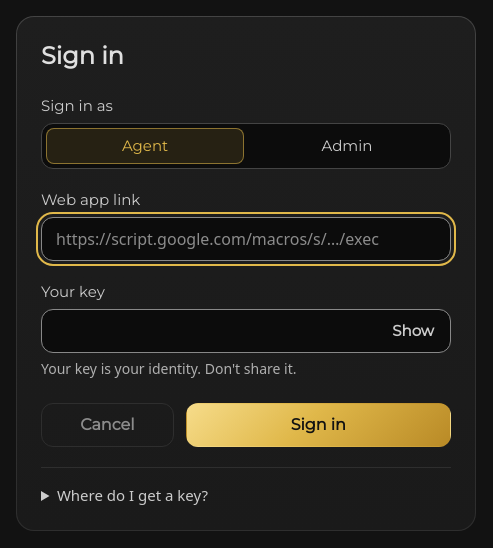
Test case: SignInScreen › hides the key until asked
Click the button with aria-label "Show key" at (413, 331), box left=381, top=315, right=445, bottom=347
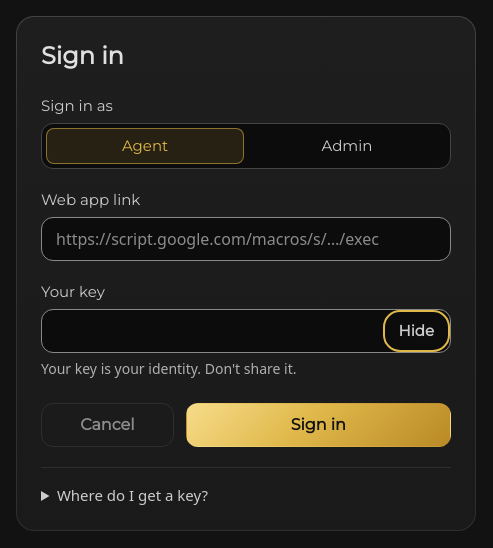
Check: the button with aria-label "Hide key" is shown, box left=388, top=315, right=445, bottom=347
